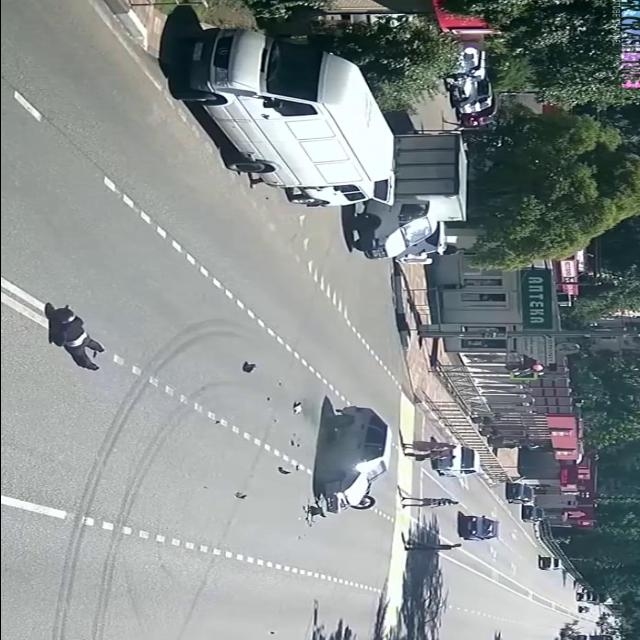accident: (211, 354, 398, 530), (0, 285, 130, 379)
non_accident: (168, 15, 474, 266), (500, 478, 549, 526)
